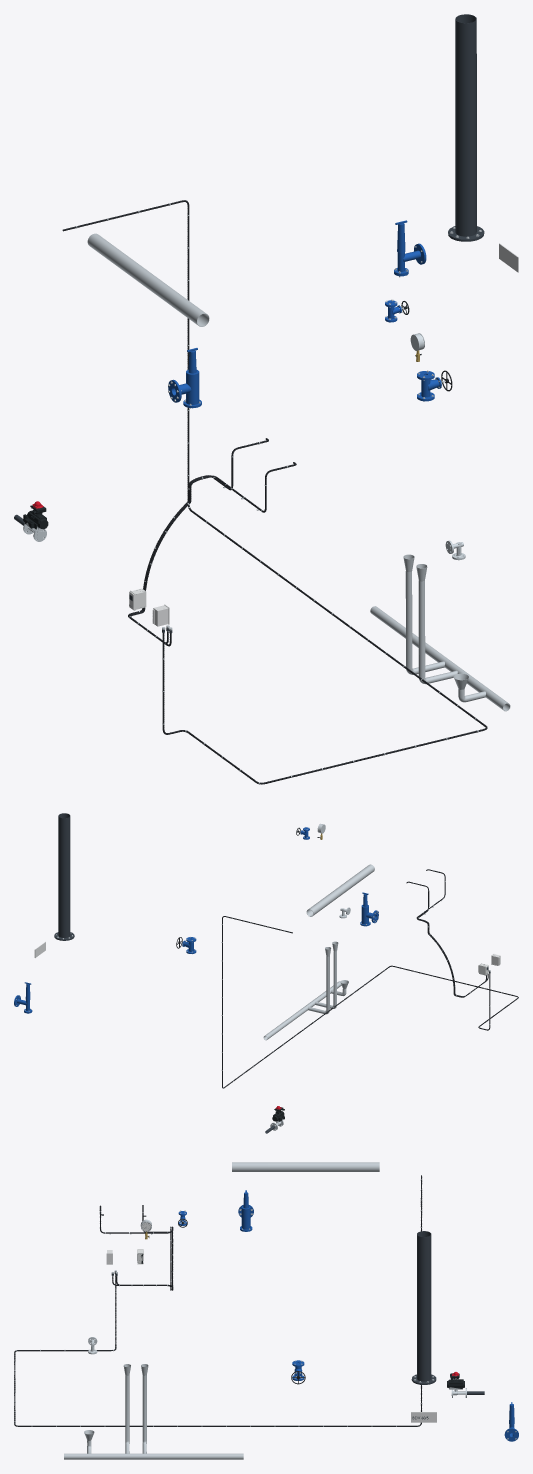
The model's file is s4000-6-DtkiZmGm.glb.
3 renders of one model, top to bottom at view 1: azimuth 30°, elevation 25°; view 2: azimuth 150°, elevation 25°; view 3: azimuth 270°, elevation 25°, orthographic. The views are drawn at different scales.
Parts seen in each view (by area): view 1: bdv_vent / dark, local_open_drains / steel, mod_direct_drive_cable / black, steam_delivery / steel, safety_1 / blue; view 2: bdv_vent / dark, local_open_drains / steel, mod_direct_drive_cable / black, steam_delivery / steel; view 3: bdv_vent / dark, local_open_drains / steel, mod_direct_drive_cable / black, steam_delivery / steel, wiring_low_level_1 / black, safety_1 / blue, gpz_bypass / steel.
Boxes of the visible parts, <box> form: bdv_vent / dark: <box>448,14,484,241</box>; local_open_drains / steel: <box>370,554,510,711</box>; mod_direct_drive_cable / black: <box>62,200,487,784</box>; steam_delivery / steel: <box>87,233,179,305</box>; safety_1 / blue: <box>168,348,201,408</box>; bdv_vent / dark: <box>54,813,74,940</box>; local_open_drains / steel: <box>263,941,348,1040</box>; mod_direct_drive_cable / black: <box>222,916,518,1088</box>; steam_delivery / steel: <box>306,875,359,916</box>; bdv_vent / dark: <box>411,1231,436,1384</box>; local_open_drains / steel: <box>64,1364,243,1459</box>; mod_direct_drive_cable / black: <box>14,1175,422,1426</box>; steam_delivery / steel: <box>267,1162,379,1171</box>; wiring_low_level_1 / black: <box>99,1205,171,1290</box>; safety_1 / blue: <box>238,1190,253,1231</box>; gpz_bypass / steel: <box>232,1162,267,1171</box>.
Bounding box in the file's own units: 5.3 × 3.81 × 5.82.
